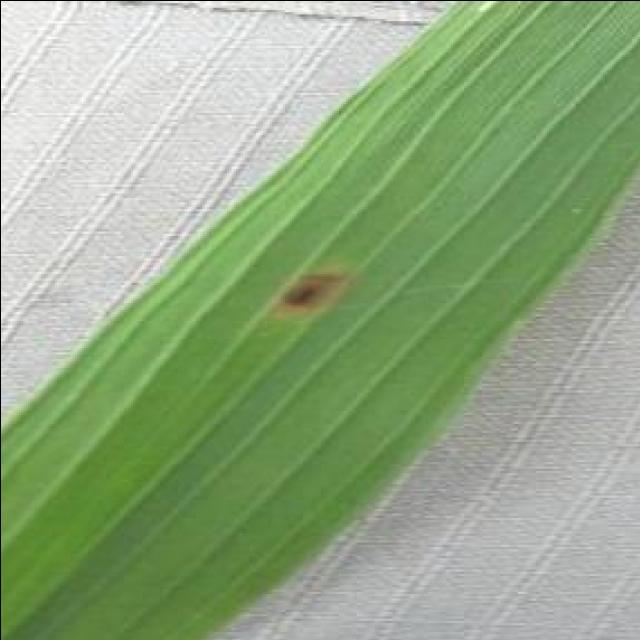Brown_Spot: (264, 255, 362, 320)
